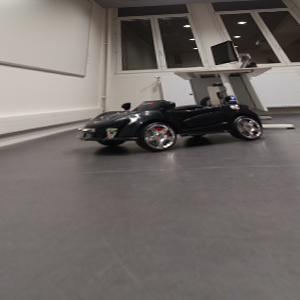big: (76, 93, 266, 153)
